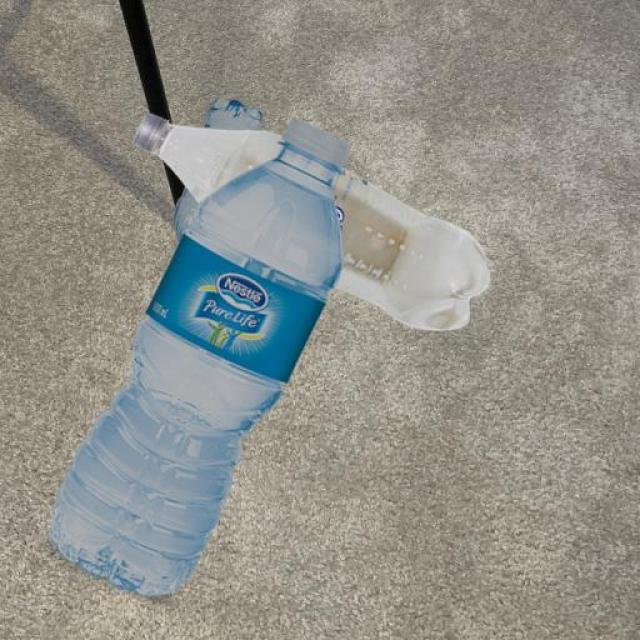bottle: (48, 98, 352, 598), (131, 98, 491, 332)
